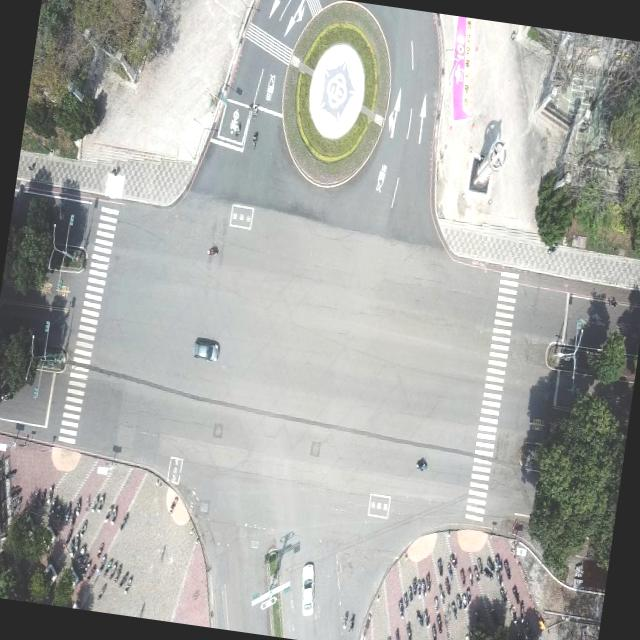bike: (250, 130, 258, 148)
car: (296, 560, 318, 615), (191, 334, 222, 362)
